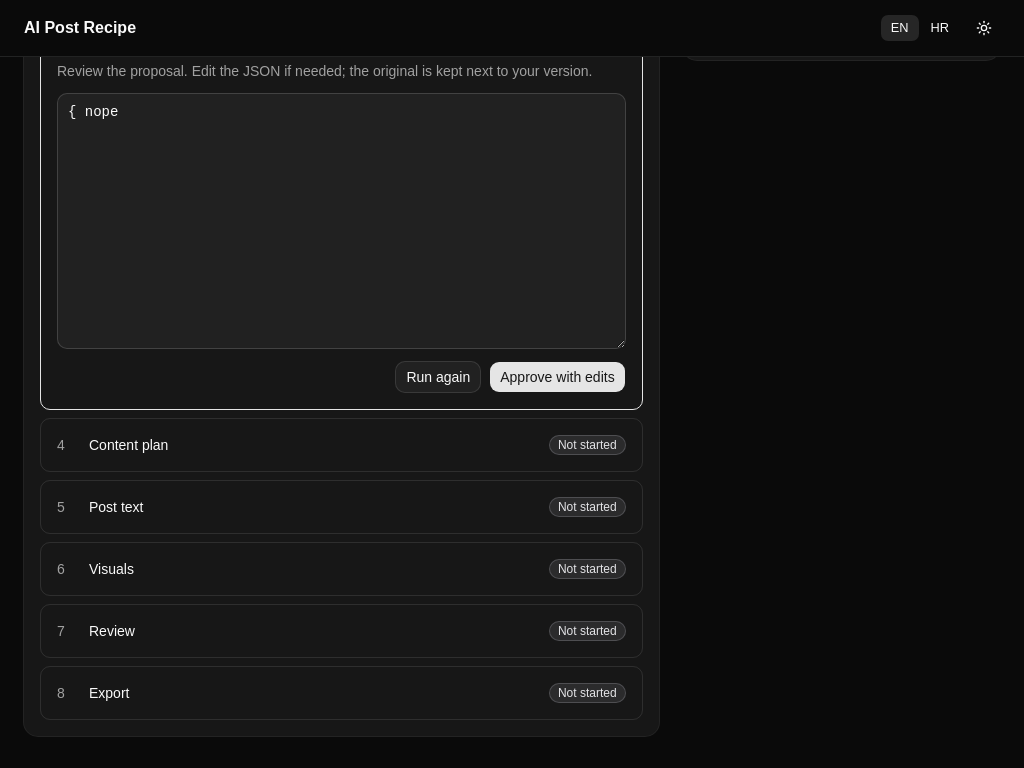
Test: Run details › approval › does not send invalid JSON
Earlier steps of the test are not shown.
(page scrolled)
Click the button "Approve with edits" at (558, 377), box [489,361,626,393]
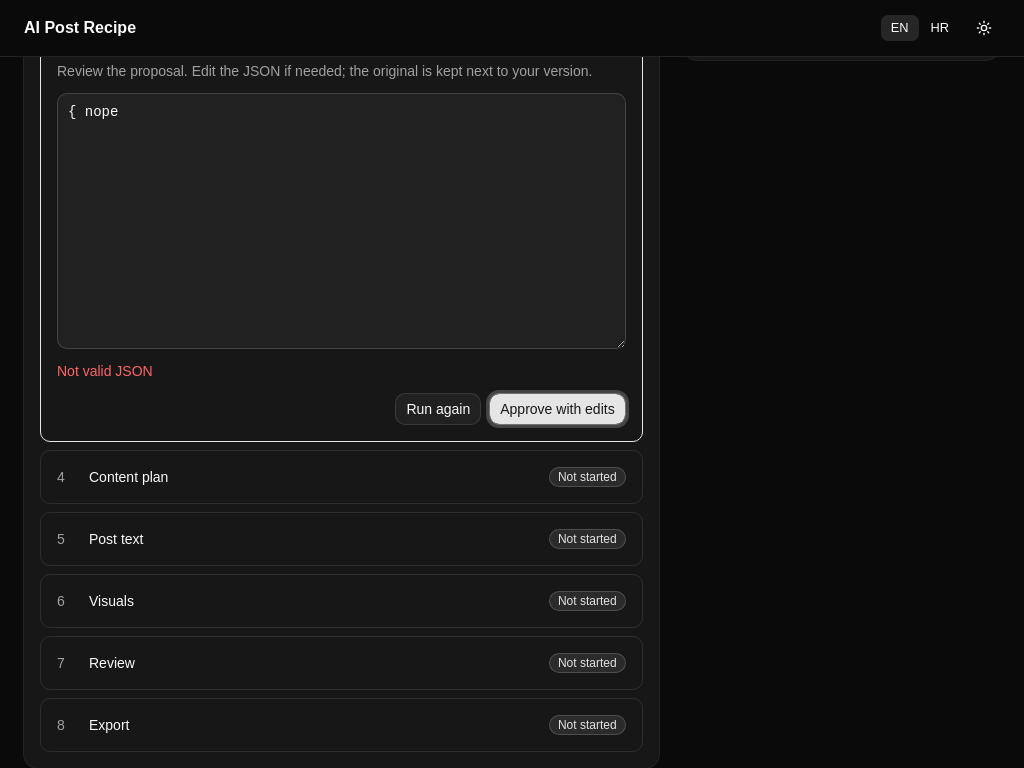
Check: the text "Not valid JSON" is shown, box [57,363,153,379]
